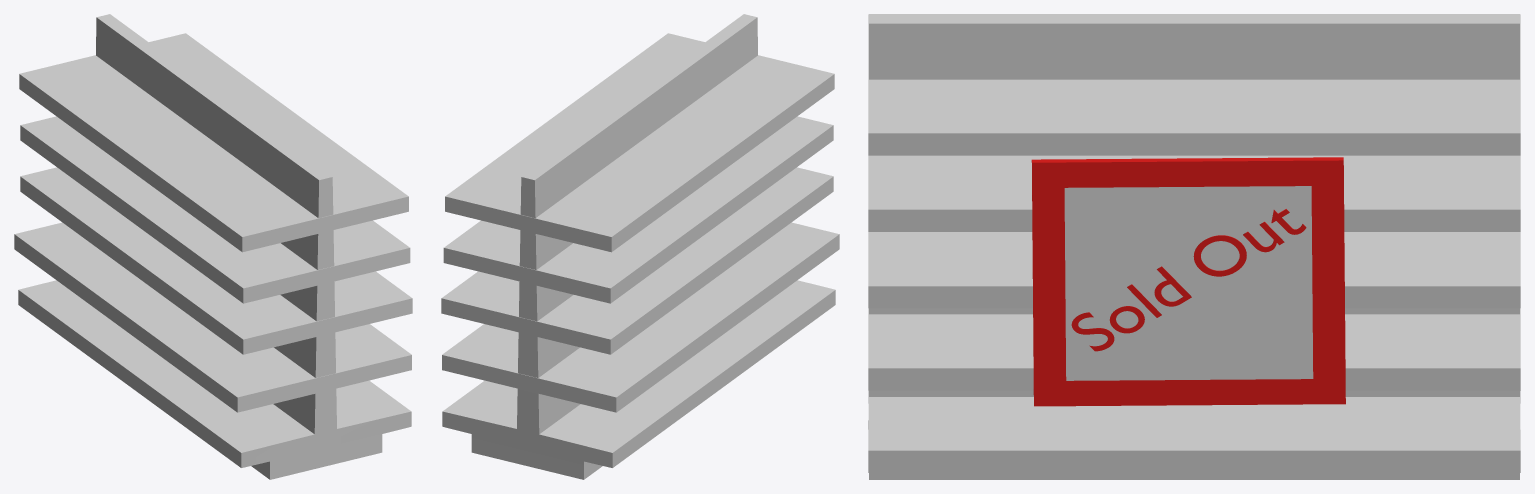
The model's file is prateleira.fbx.
The picture shows the model from 3 angles, left to right: view 1: azimuth 30°, elevation 25°; view 2: azimuth 150°, elevation 25°; view 3: azimuth 270°, elevation 25°; orthographic projection. The views are drawn at different scales.
Visible parts, largest first — view 1: Text; view 2: Text; view 3: Text.
Part boxes in pixels (x1=…): Text: x1=14, y1=14, x2=412, y2=479; Text: x1=441, y1=14, x2=839, y2=479; Text: x1=868, y1=14, x2=1520, y2=479.
Bounding box in the file's own units: 1652 × 2490 × 3499.
